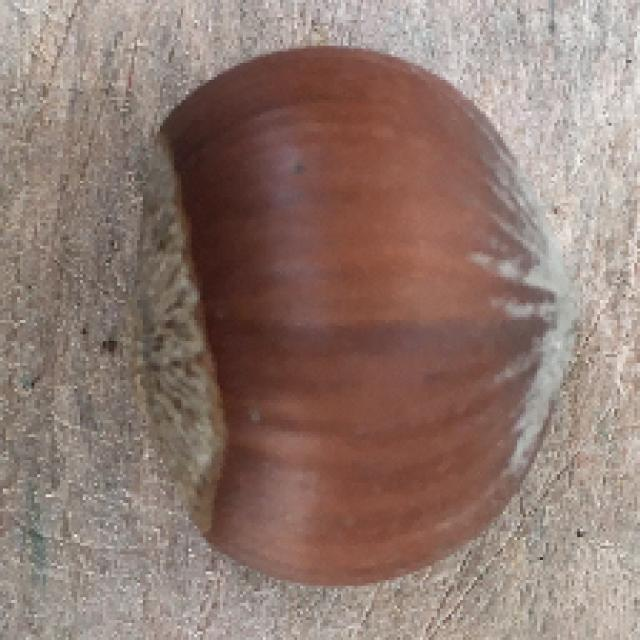qualityHazelnut: (136, 42, 588, 589)
